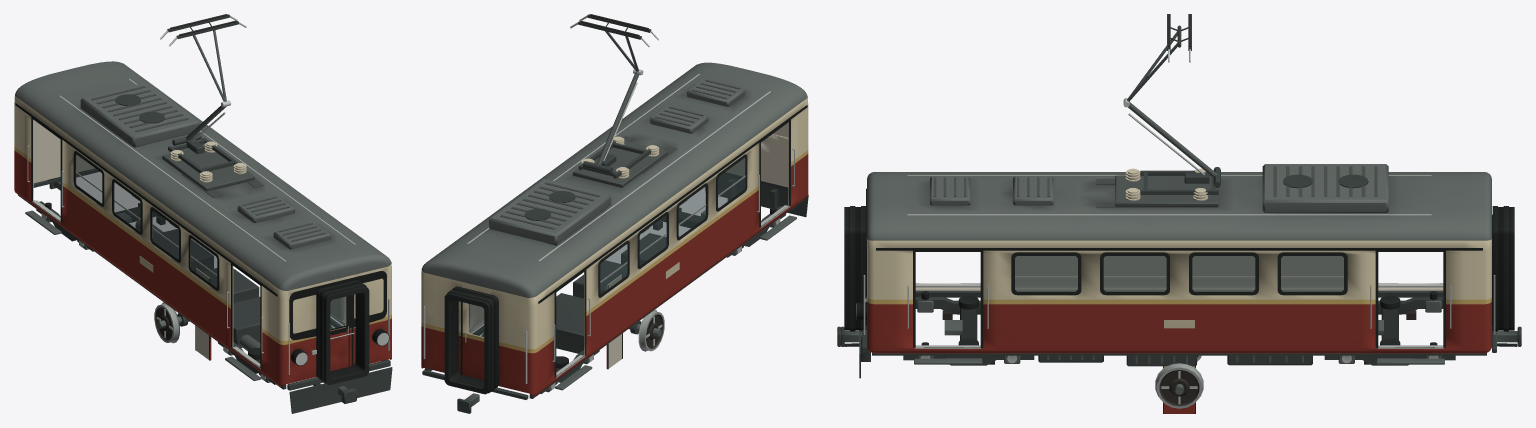
File: momiji-emu.glb
3 views of the same model, side by side, from view 1: azimuth 30°, elevation 25°; view 2: azimuth 150°, elevation 25°; view 3: azimuth 270°, elevation 25° (orthographic). The views are drawn at different scales.
Visible parts, largest first — view 1: car-cab, car-middle, pantograph, wheelset, door-leaf; view 2: car-cab, car-middle, pantograph, wheelset, door-leaf; view 3: car-cab, car-middle, pantograph, wheelset.
Boxes of the visible parts, bbox=[...] form: car-cab: bbox=[14, 61, 392, 413]; car-middle: bbox=[76, 155, 390, 403]; pantograph: bbox=[160, 14, 246, 173]; wheelset: bbox=[154, 302, 189, 343]; door-leaf: bbox=[195, 268, 211, 360]; car-cab: bbox=[421, 62, 808, 413]; car-middle: bbox=[469, 123, 788, 336]; pantograph: bbox=[570, 14, 659, 178]; wheelset: bbox=[629, 309, 664, 351]; door-leaf: bbox=[606, 274, 622, 369]; car-cab: bbox=[841, 164, 1521, 378]; car-middle: bbox=[837, 206, 1343, 352]; pantograph: bbox=[1123, 14, 1220, 194]; wheelset: bbox=[1155, 355, 1203, 408].
Size of the model in its own units: 3.38 by 8.39 by 13.58.
